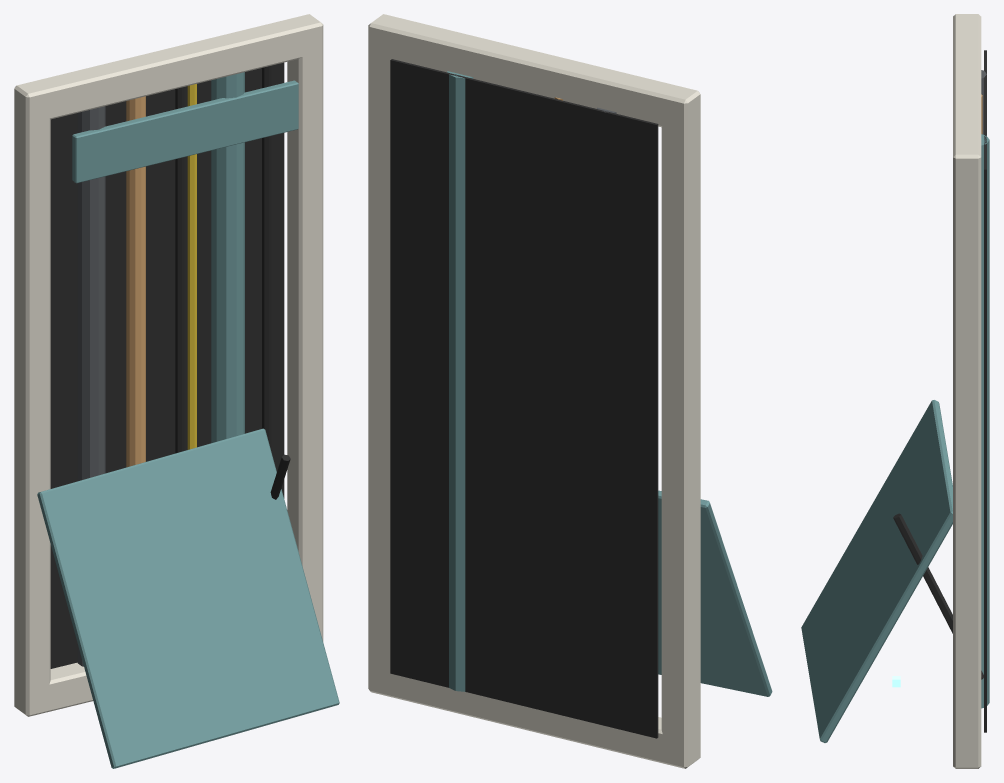
File: wall_panel_breached.glb
3 views of the same model, side by side, from view 1: azimuth 30°, elevation 25°; view 2: azimuth 150°, elevation 25°; view 3: azimuth 270°, elevation 25° (orthographic). The views are drawn at different scales.
Visible parts, largest first — view 1: wall_panel_breached; view 2: wall_panel_breached; view 3: wall_panel_breached.
Part boxes in pixels (box(x1,y1,x2,y2)): wall_panel_breached: box(14, 14, 339, 768); wall_panel_breached: box(368, 14, 772, 768); wall_panel_breached: box(801, 14, 989, 768).
Size of the model in its own units: 1.2 by 2.4 by 0.6673.
